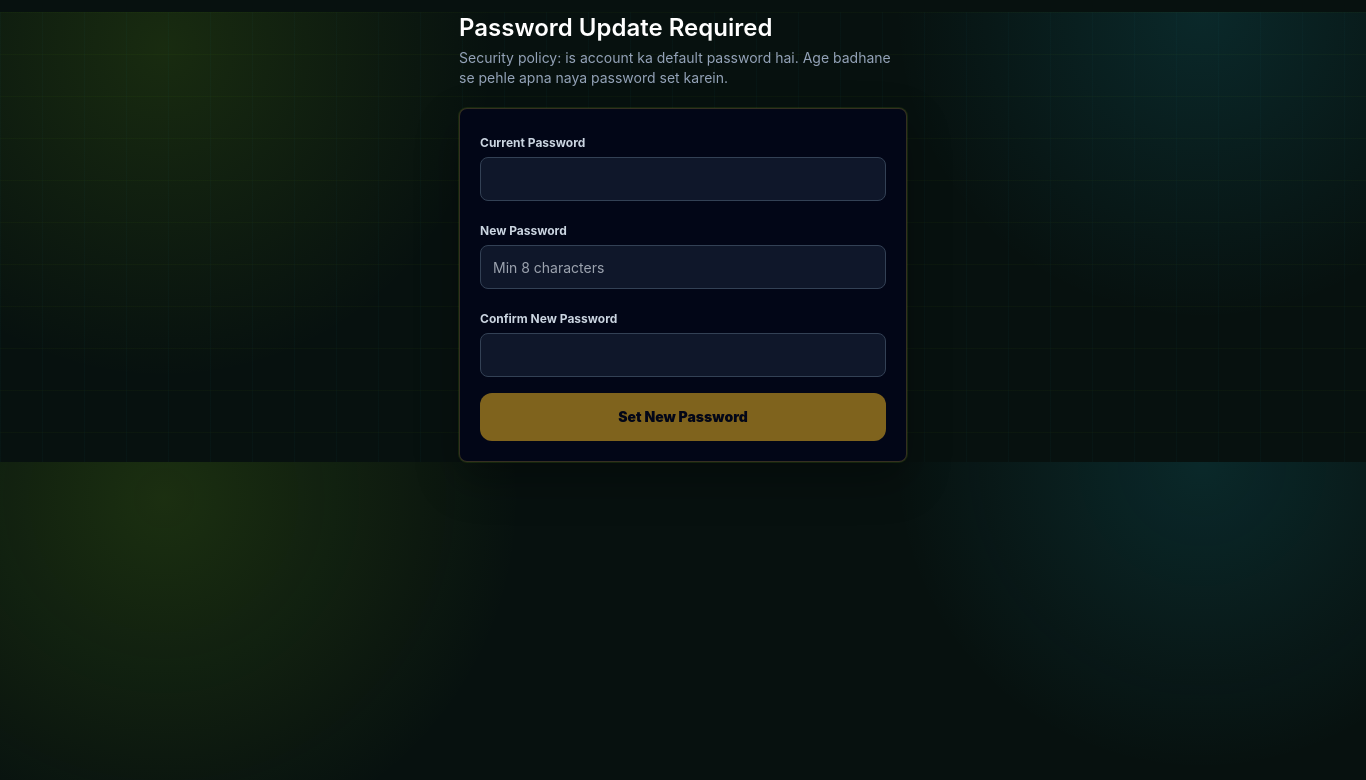
ChangePasswordPage › rejects when new and confirm passwords do not match
Type "oldpass" into the password field labelled "Current Password" at (683, 179), box 480,157 -> 886,201
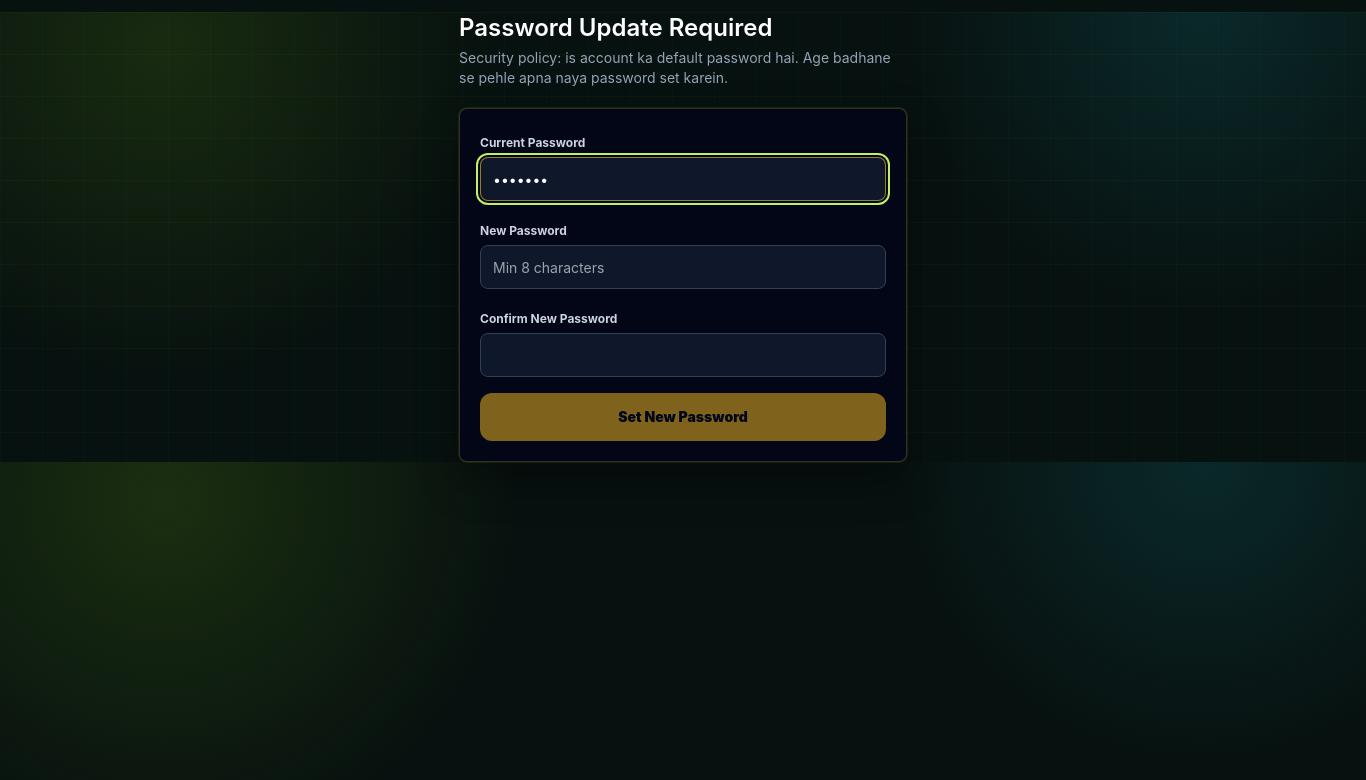
Type "newpass123" into the password field labelled "New Password" at (683, 267), box 480,245 -> 886,289
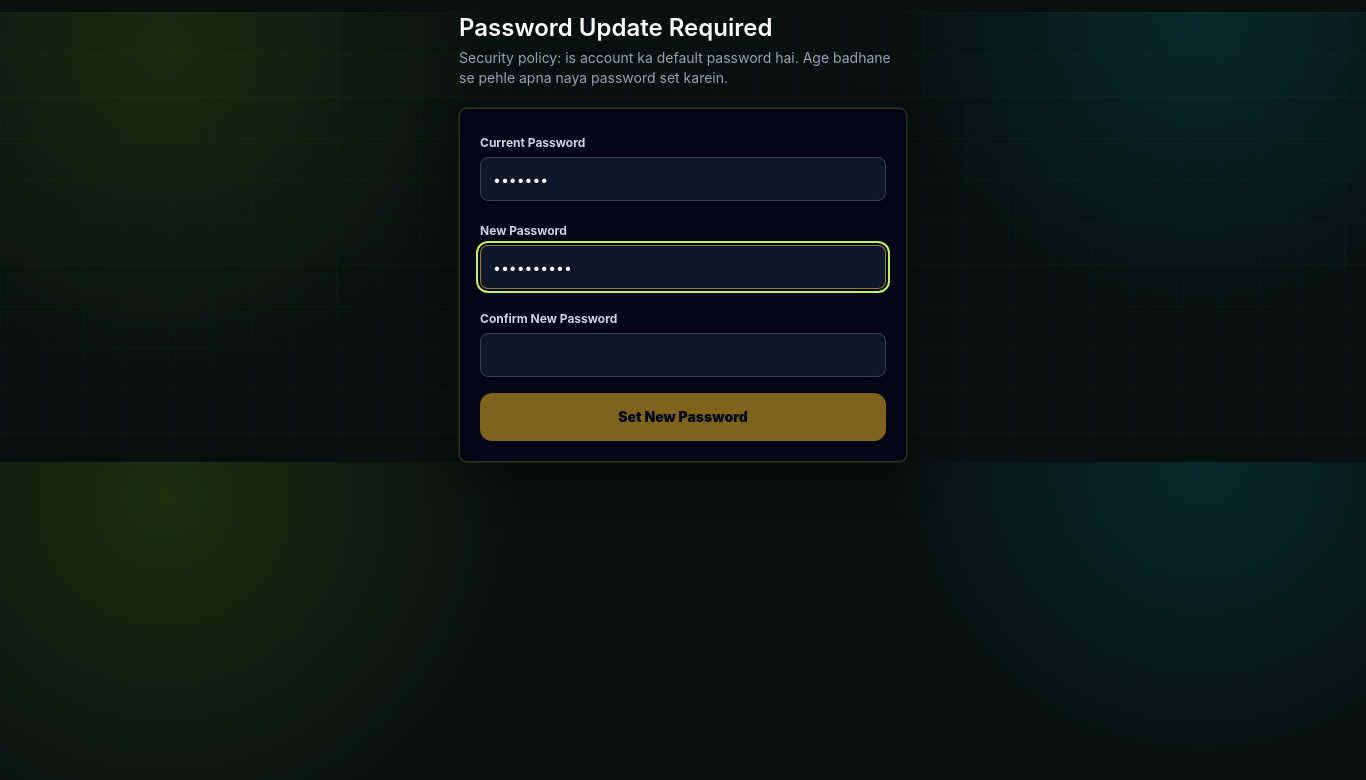
Type "different123" into the password field labelled "Confirm New Password" at (683, 355), box 480,333 -> 886,377
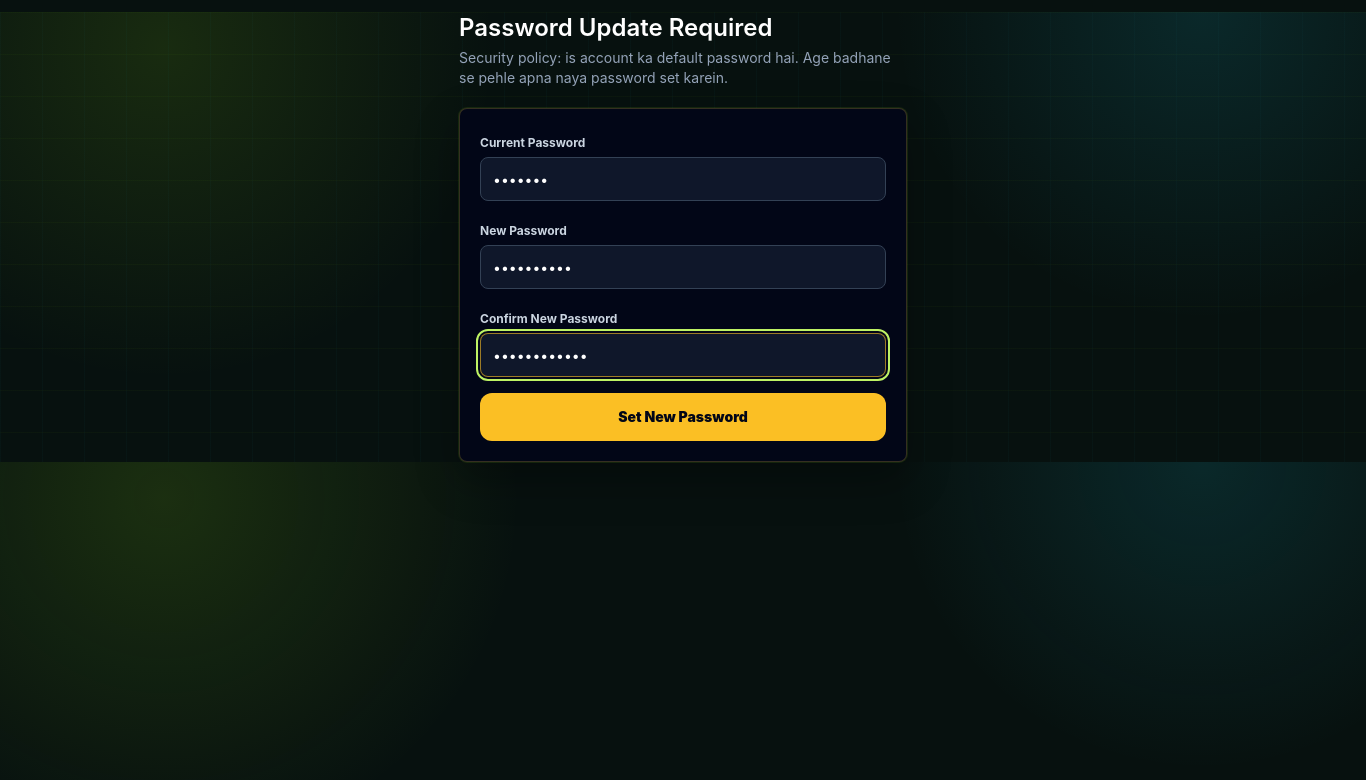
Click the button "Set New Password" at (683, 417), box 480,393 -> 886,441
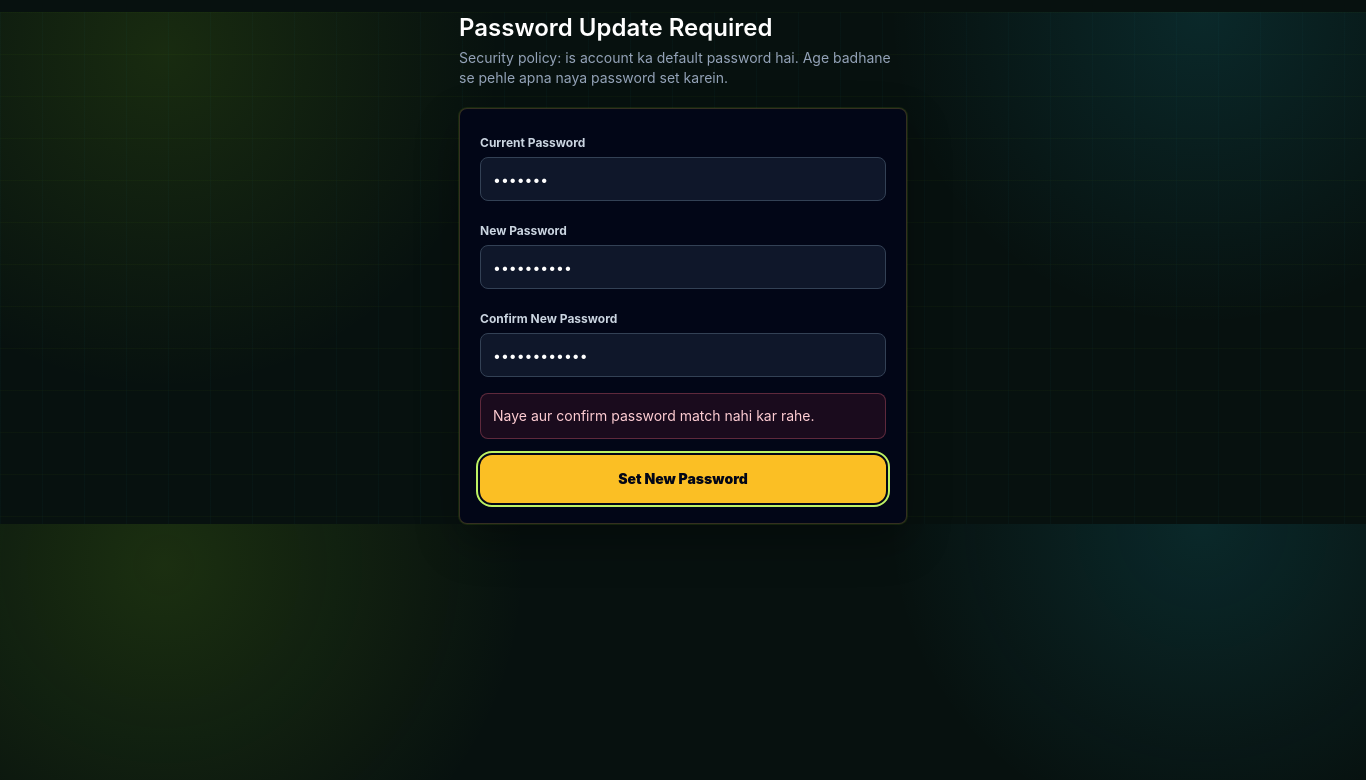
Expected: the text "Naye aur confirm password match nahi kar rahe." is shown, 480,393 -> 886,439
